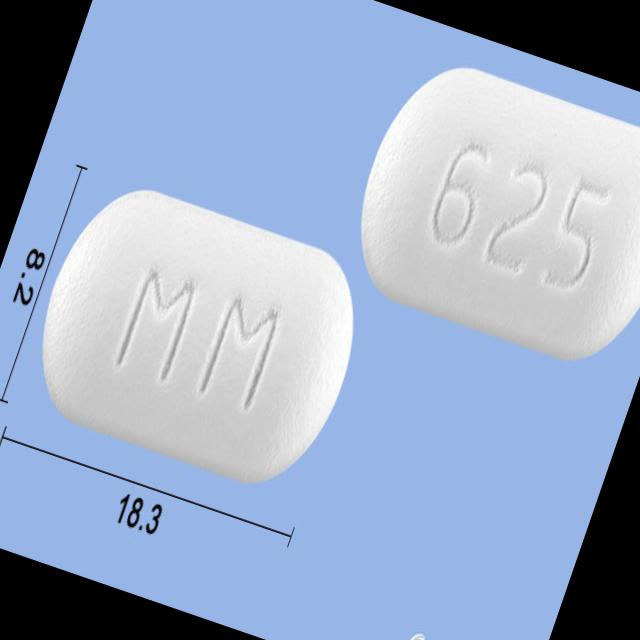Myungmoon Amoclan Tab: (13, 168, 383, 503), (335, 46, 640, 375)
